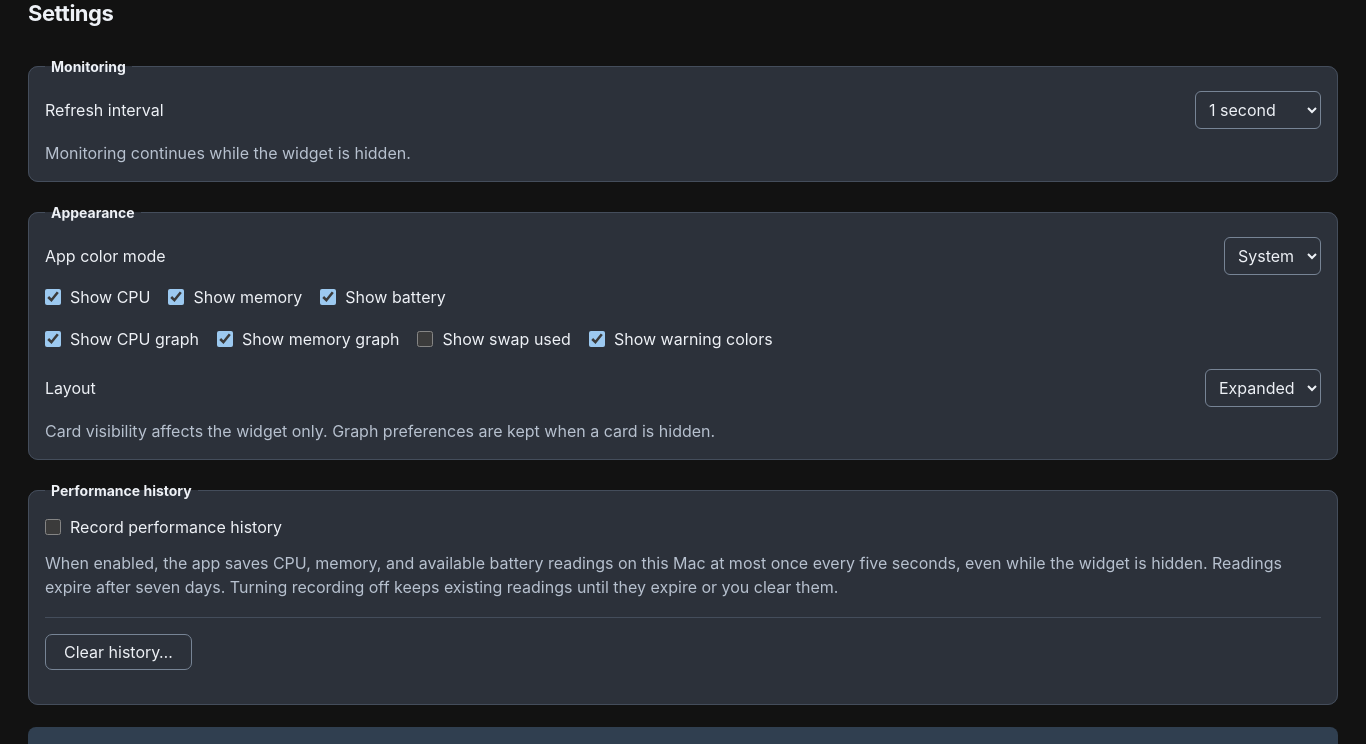
Test: Settings window › failed saves stay visible, preserve the draft, and can be retried
Expected: the dropdown labelled "Refresh interval" is shown, [1195, 91, 1321, 129]
Click the checkbox labelled "Show battery" at (328, 297), box [320, 289, 336, 305]
(page scrolled)
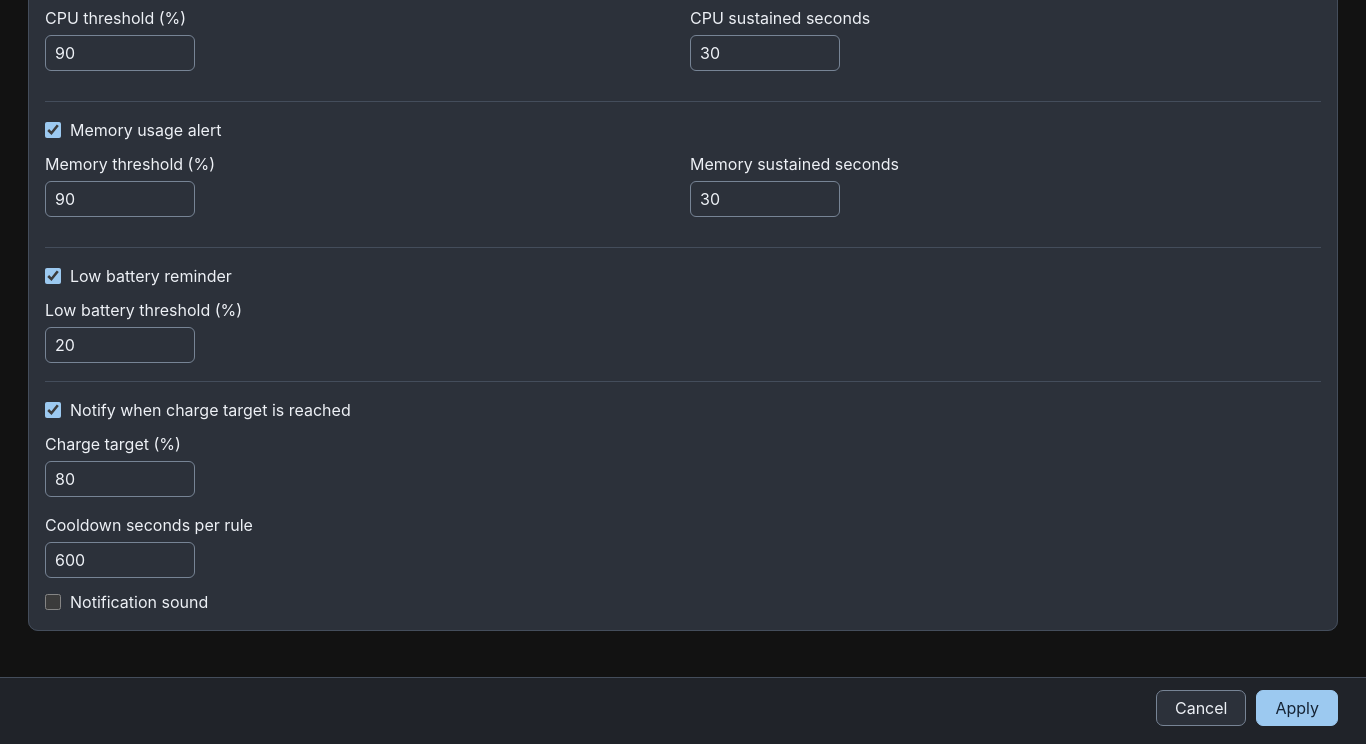
Click the button "Apply" at (1297, 708), box [1256, 690, 1338, 726]
(page scrolled)
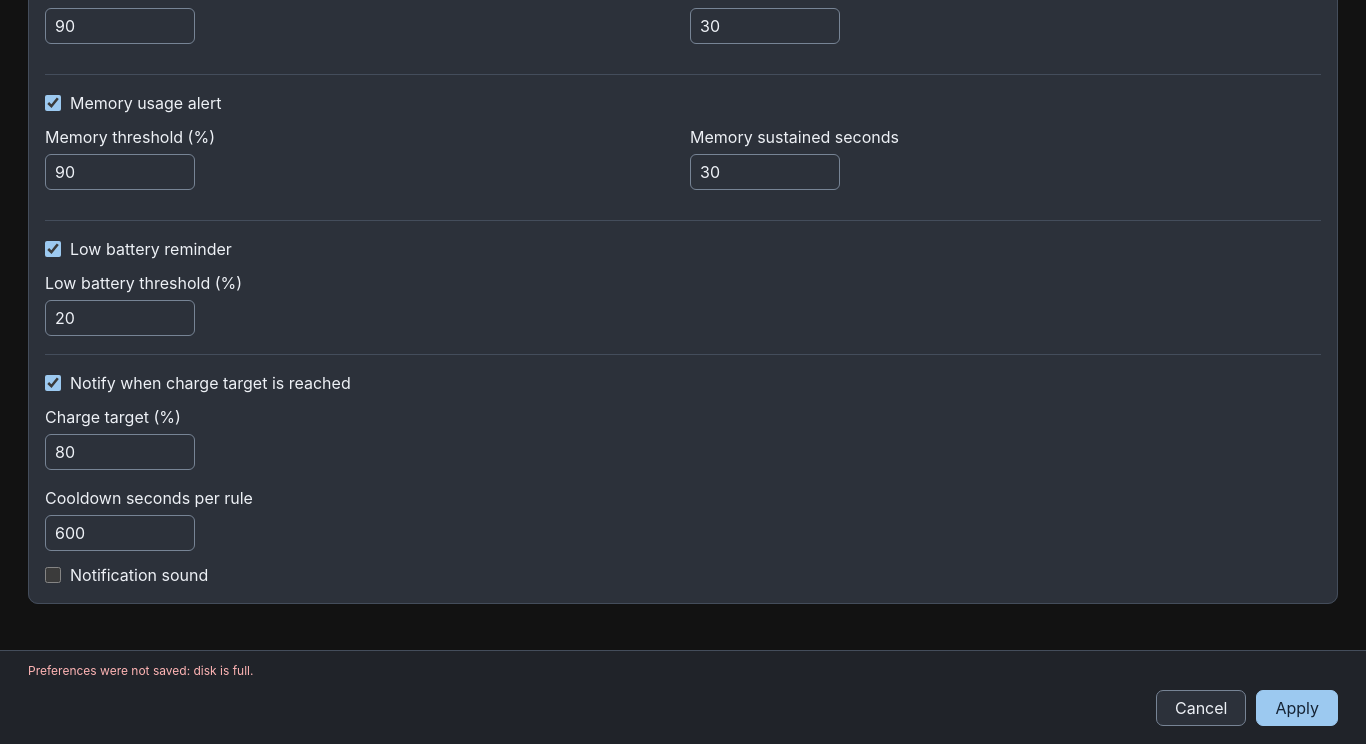
Expected: the button "Apply" is enabled
Expected: the text "Preferences were not saved: disk is full." is shown, [28, 663, 254, 678]
Click the button "Apply" at (1297, 708), box [1256, 690, 1338, 726]
(page scrolled)
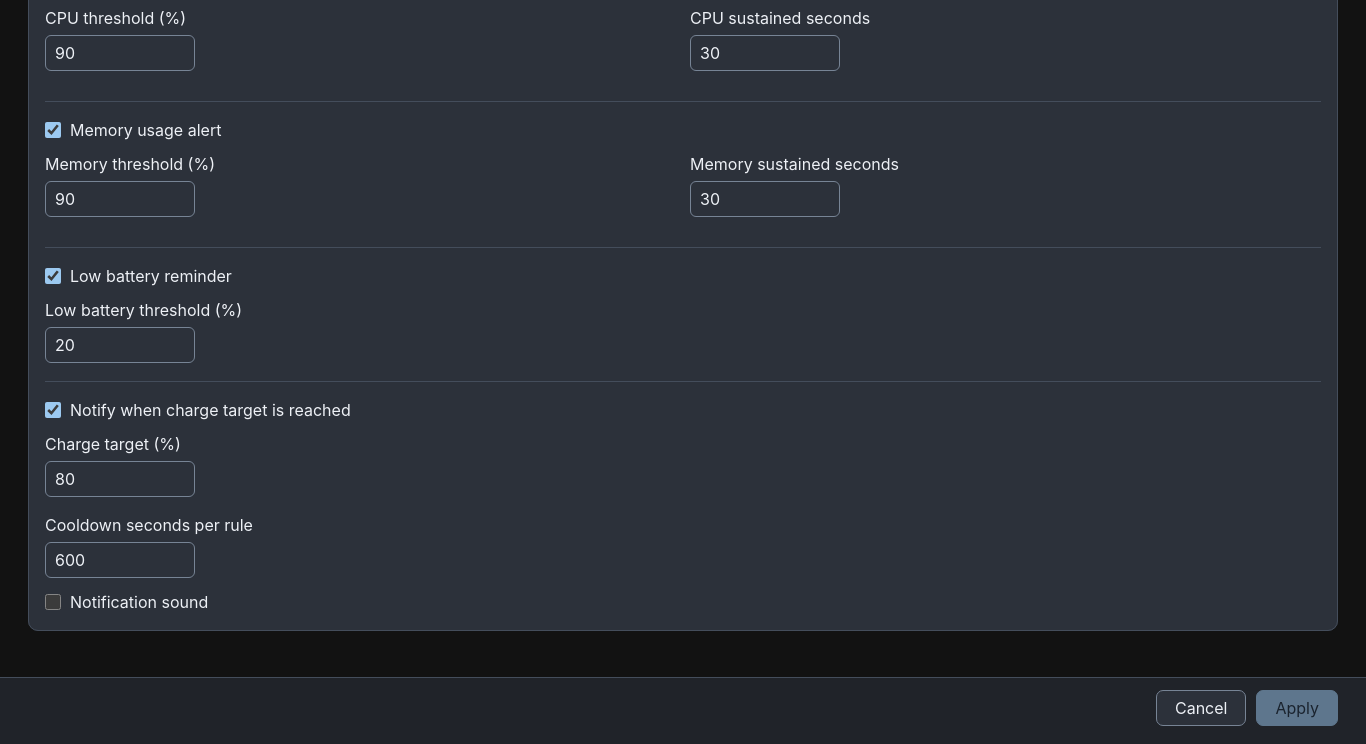
Expected: the button "Apply" is disabled, [1256, 690, 1338, 726]
